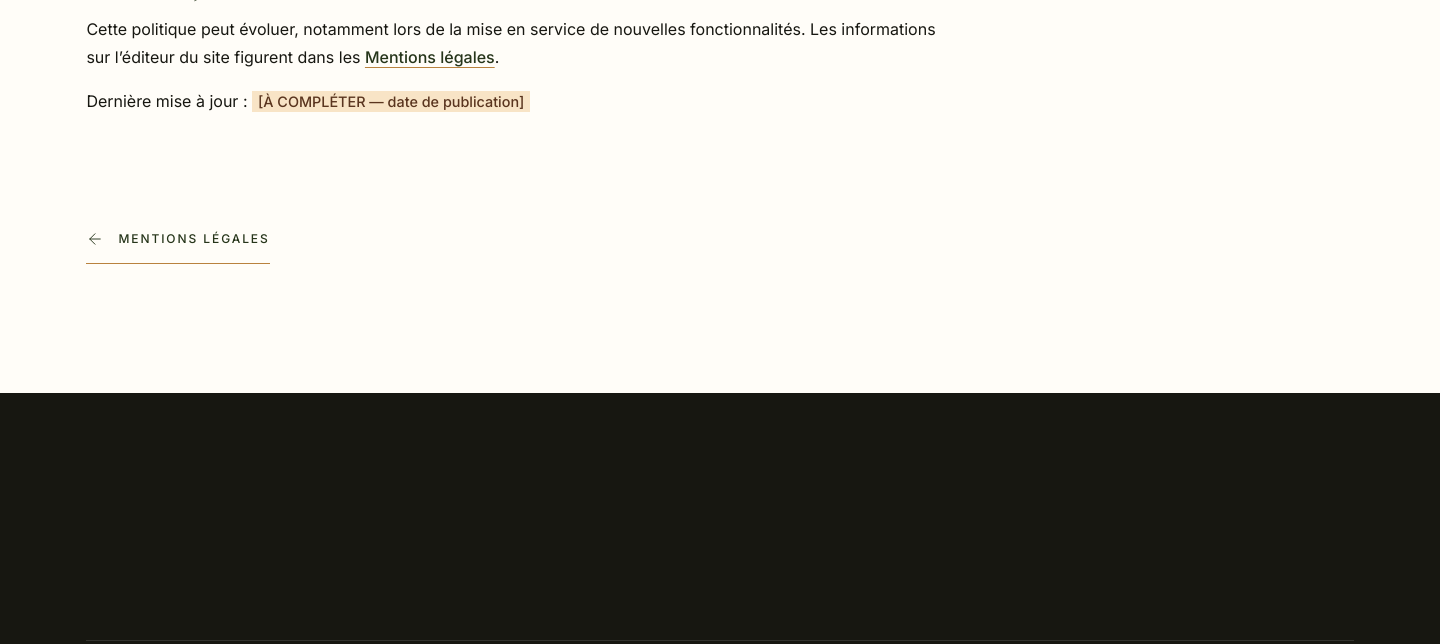
Test case: Politique de confidentialité › renvoie vers les Mentions légales
(page scrolled)
Click the 2nd link "Mentions légales".
click(178, 240)  # box [86,216,270,264]
(page scrolled)
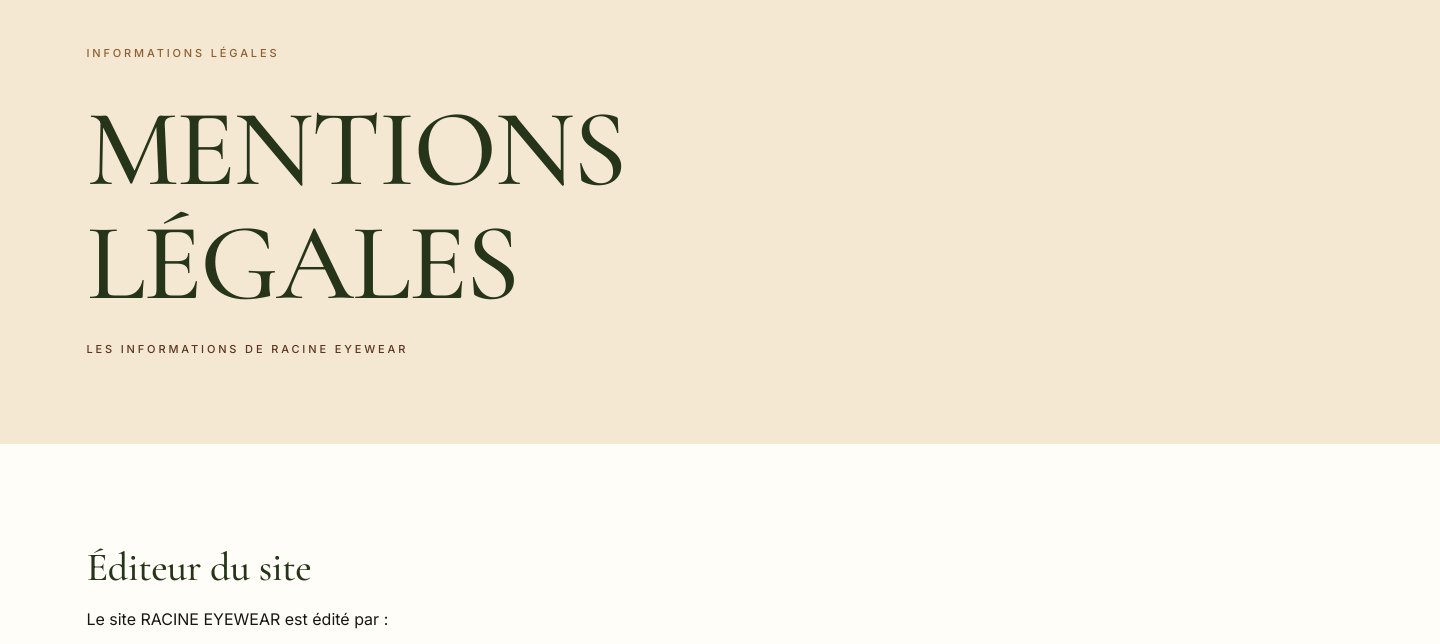
Expected: the heading "Mentions légales" is shown, [86,83,625,329]
